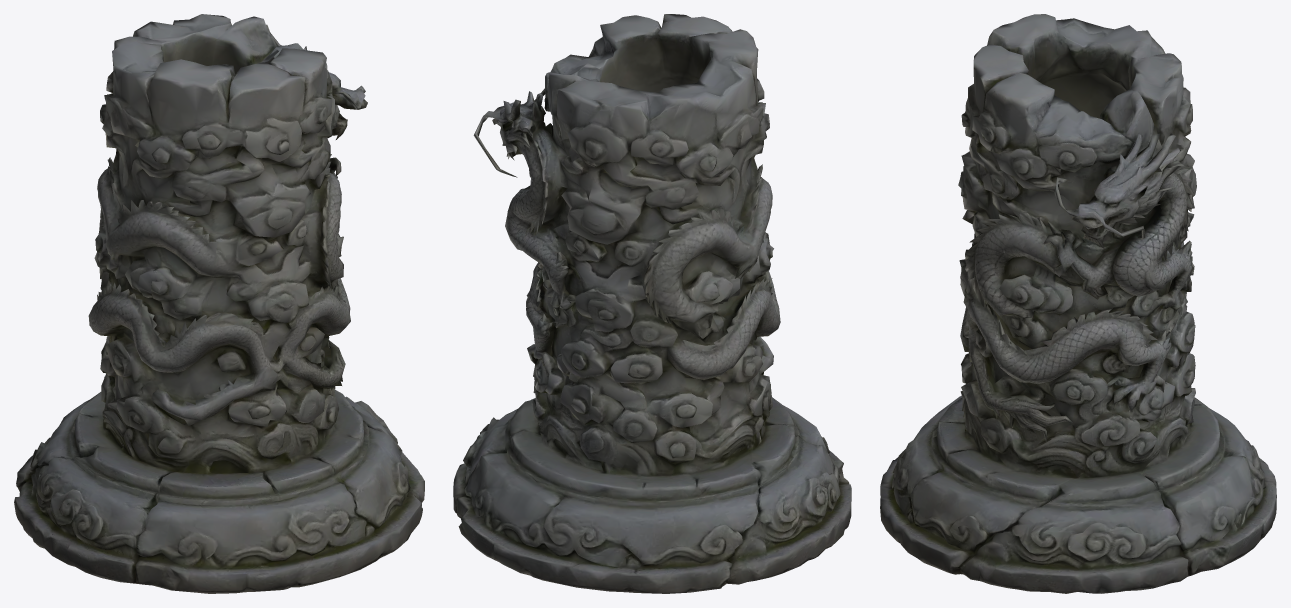
3 views of the same model, side by side, from view 1: azimuth 30°, elevation 25°; view 2: azimuth 150°, elevation 25°; view 3: azimuth 270°, elevation 25° (orthographic). The views are drawn at different scales.
Visible parts, largest first — view 1: tripo_node_050a31db-063c-44dd-9d9d-82f8d8a2ae14; view 2: tripo_node_050a31db-063c-44dd-9d9d-82f8d8a2ae14; view 3: tripo_node_050a31db-063c-44dd-9d9d-82f8d8a2ae14.
Part boxes in pixels (x1,y1,x2,y2): tripo_node_050a31db-063c-44dd-9d9d-82f8d8a2ae14: (14,14,424,593); tripo_node_050a31db-063c-44dd-9d9d-82f8d8a2ae14: (453,14,851,593); tripo_node_050a31db-063c-44dd-9d9d-82f8d8a2ae14: (880,14,1276,593).
Size of the model in its own units: 0.7836 by 1 by 0.7806.
1 material, 1 textured.
